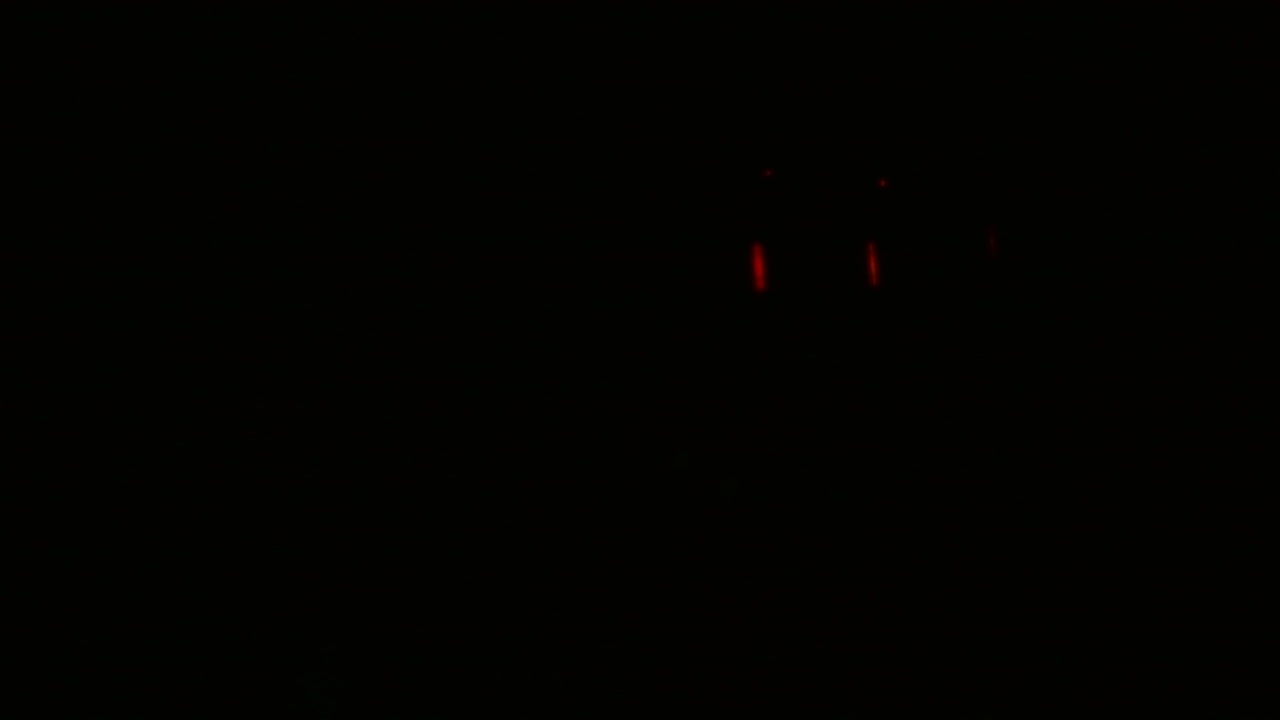pair1: (745, 240, 884, 289)
